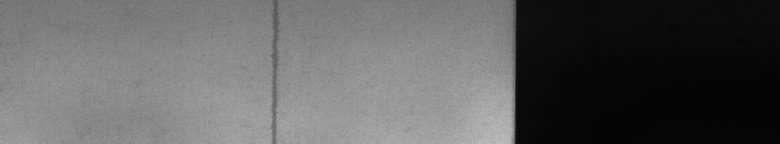hd: (268, 4, 283, 136)
